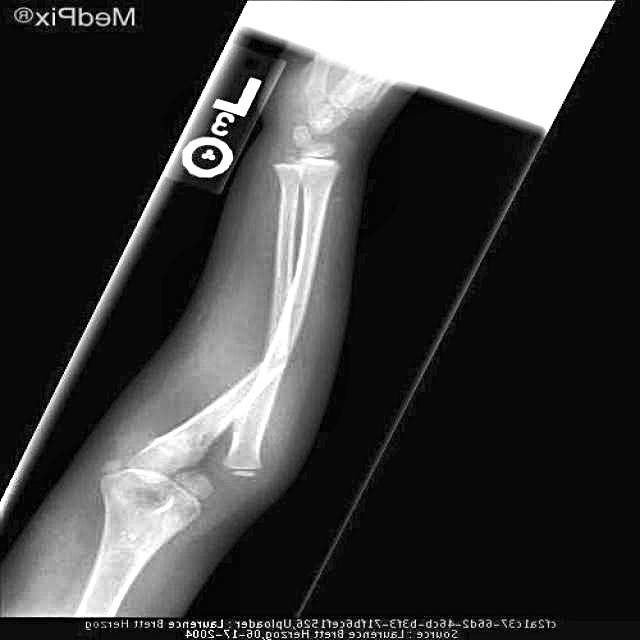Spiral: (242, 301, 296, 410)
